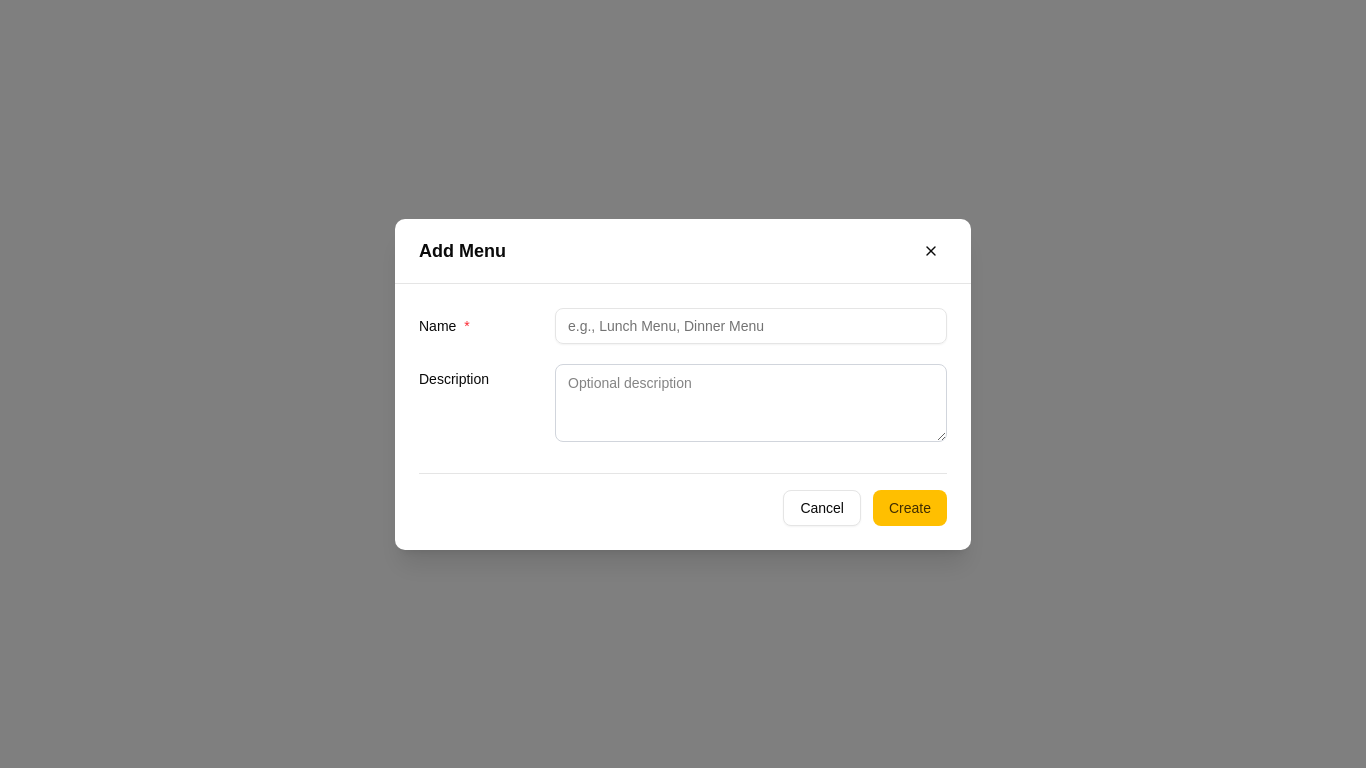
Scenario: MenuForm › Error Handling › should display default error message when action fails without error string
This screenshot has width=1366, height=768.
Type "Some Menu" into the field labelled "Name *". click: (751, 326)
box: [555,308,947,344]
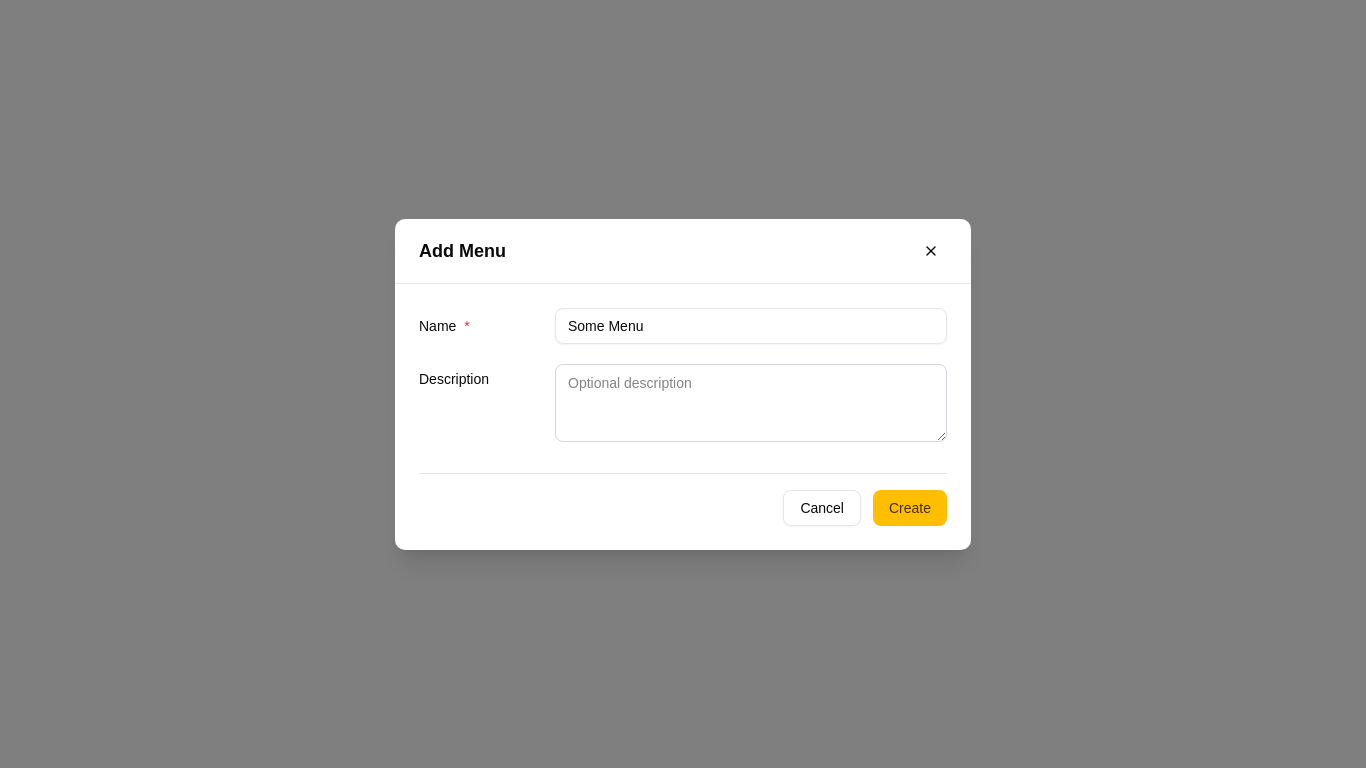
Click the button "Create". click: (910, 508)
box: [873,490,947,526]
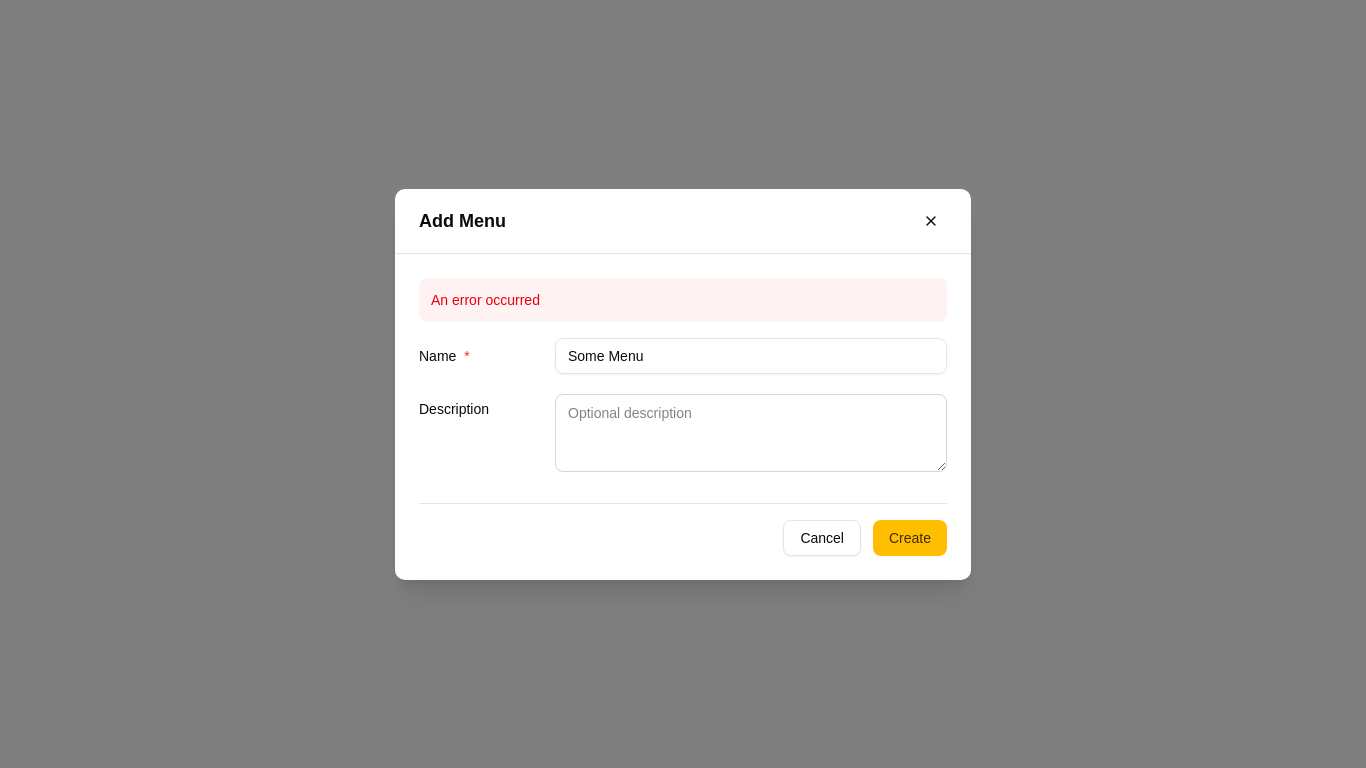
Expected: the text "An error occurred" is shown, [419,278,947,322]
